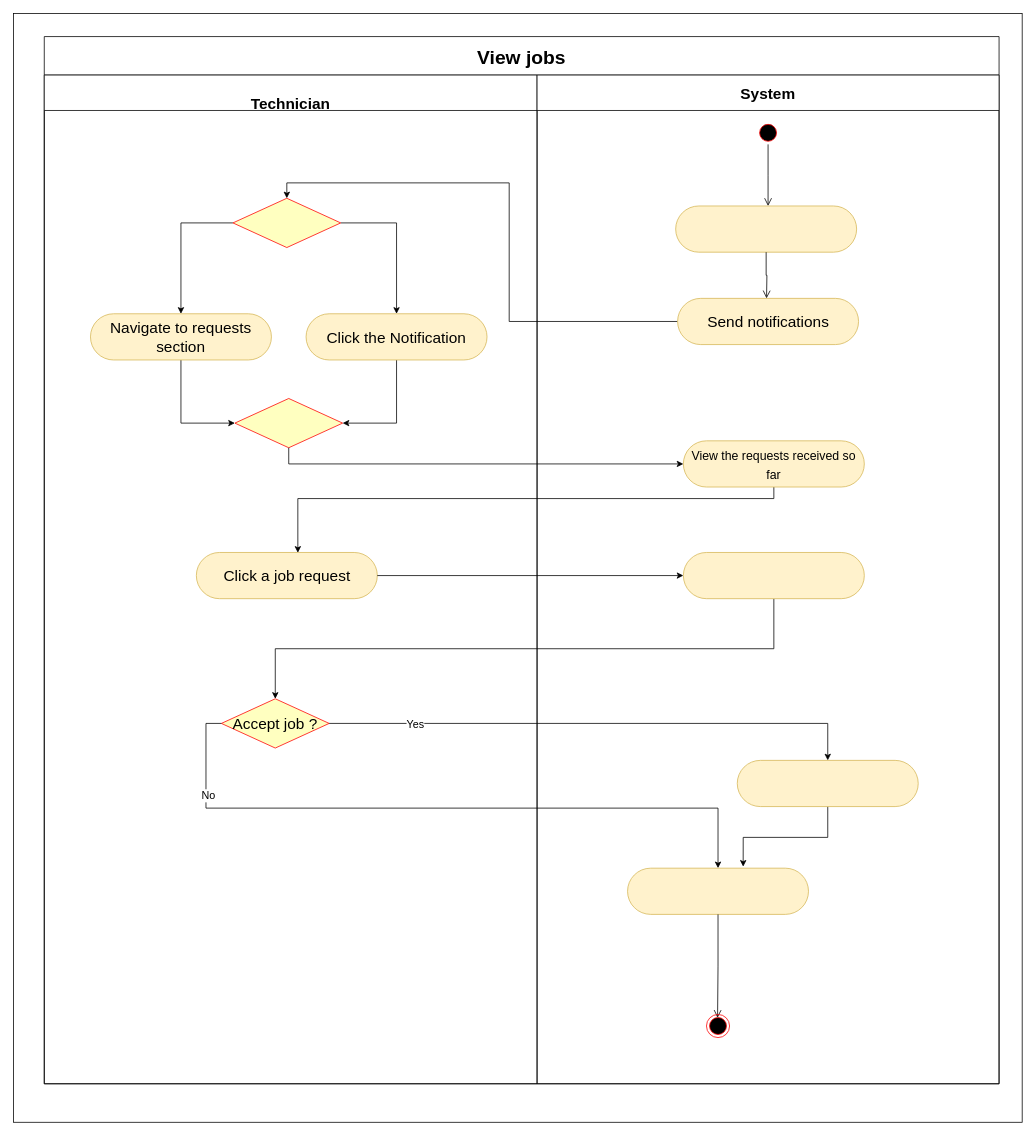
Some shapes in this 1036 by 1136 pixel diagram are drawn without their labels. The centre of each missing label's shape, as x and y in pixels:
Job is moved to the Job section: (827,783)
Send notification to User about job request status: (717,890)
Show details of the job requests: (773,575)
Update job requests section: (766,228)
